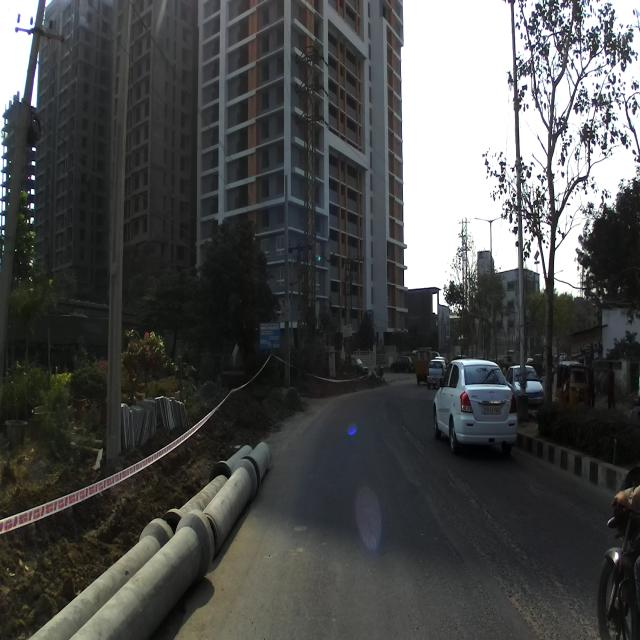car ahead at: (430, 352, 520, 452)
stones ahead at: (25, 422, 283, 632)
